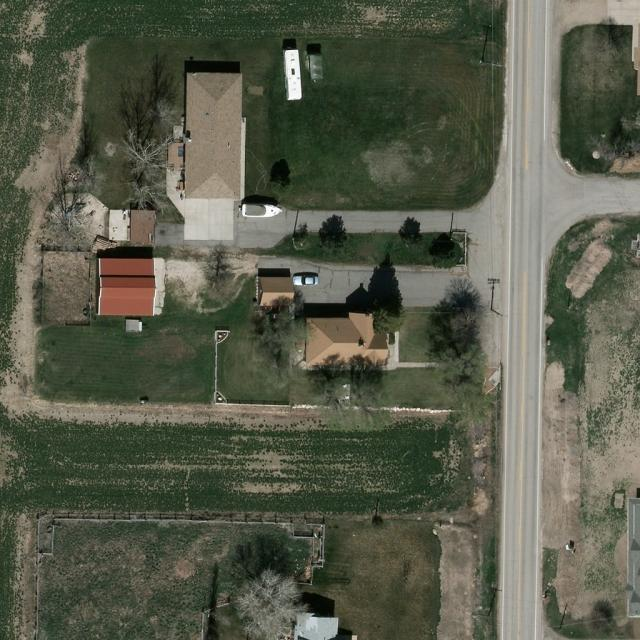vehicle: (292, 276, 321, 286)
